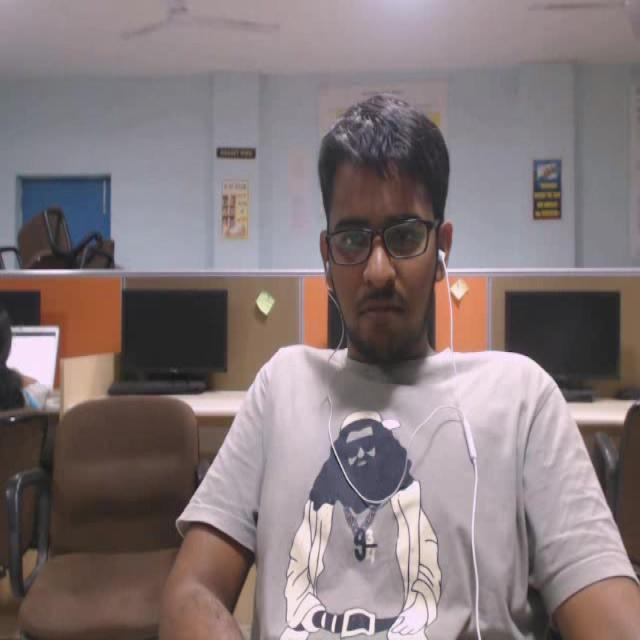Engaged: (302, 77, 480, 371)
